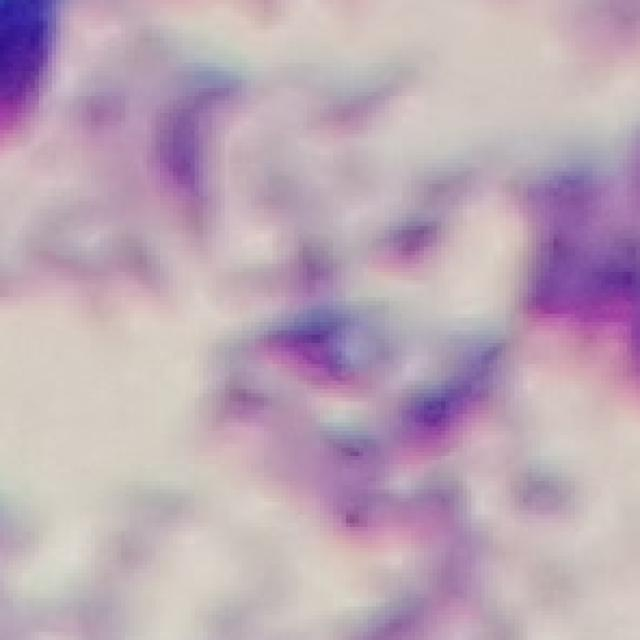non-sperm: (219, 302, 533, 546)
